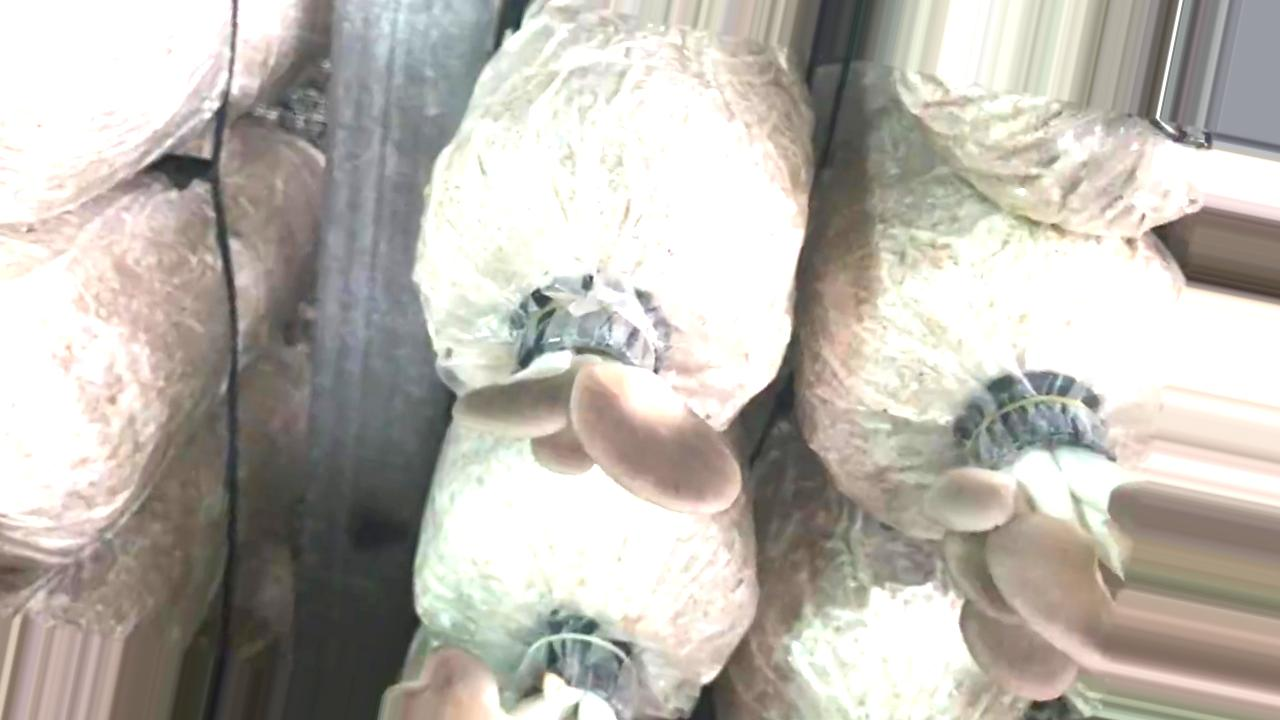nam: (923, 388, 1277, 720), (453, 292, 741, 527), (385, 641, 648, 720)
